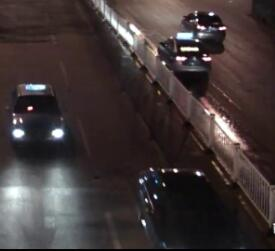car: (135, 165, 242, 247), (1, 79, 69, 150), (155, 28, 214, 76), (179, 8, 228, 44)
